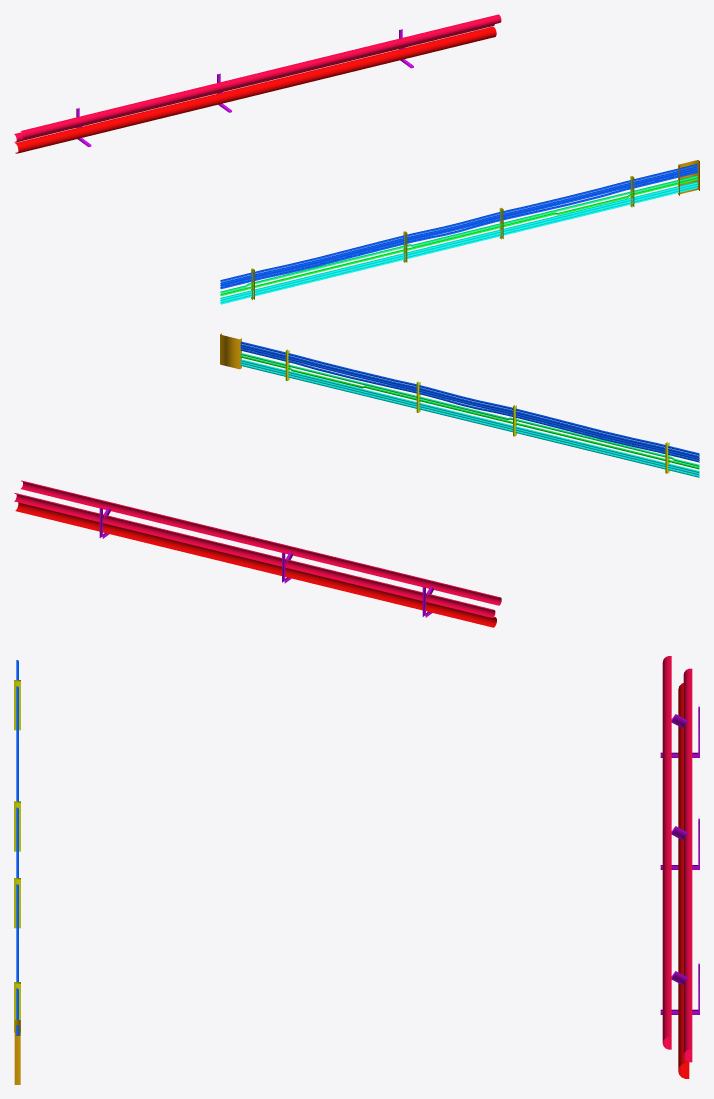
Rendered from Side_Small_Pipes.FBX.
3 renders of one model, top to bottom at view 1: azimuth 30°, elevation 25°; view 2: azimuth 150°, elevation 25°; view 3: azimuth 270°, elevation 25°, orthographic. The views are drawn at different scales.
Parts seen in each view (by area): view 1: Side_Small_Pipes; view 2: Side_Small_Pipes; view 3: Side_Small_Pipes.
Boxes of the visible parts, bbox=[...] form: Side_Small_Pipes: bbox=[14, 14, 699, 304]; Side_Small_Pipes: bbox=[14, 333, 699, 627]; Side_Small_Pipes: bbox=[14, 656, 699, 1084].
Size of the model in its own units: 5 by 0.3 by 3.81.
